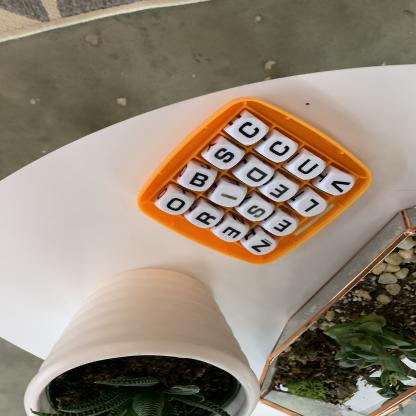b: (184, 170, 216, 192)
c: (235, 119, 267, 145), (263, 138, 296, 161)
d: (241, 164, 272, 186)
e: (267, 180, 298, 202), (218, 223, 248, 244), (270, 217, 298, 237)
i: (214, 186, 245, 208)
l: (296, 196, 327, 218)
o: (161, 194, 193, 216)
r: (192, 208, 221, 229)
s: (211, 145, 243, 170), (242, 201, 273, 223)
u: (292, 156, 327, 182)
v: (323, 174, 355, 197)
z: (248, 237, 278, 256)
